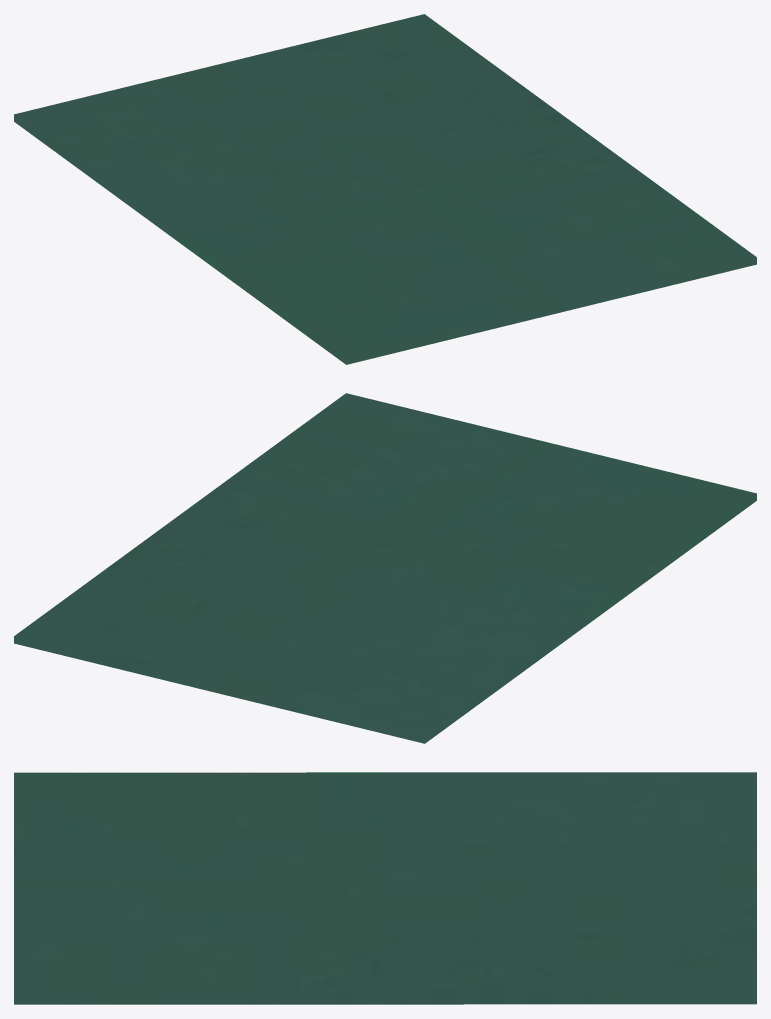
The picture shows the model from 3 angles, top to bottom: view 1: azimuth 30°, elevation 25°; view 2: azimuth 150°, elevation 25°; view 3: azimuth 270°, elevation 25°; orthographic projection. The views are drawn at different scales.
Parts seen in each view (by area): view 1: 30436272704370635623_0; view 2: 30436272704370635623_0; view 3: 30436272704370635623_0.
Part boxes in pixels (x1=…): 30436272704370635623_0: x1=14, y1=14, x2=756, y2=364; 30436272704370635623_0: x1=14, y1=393, x2=756, y2=743; 30436272704370635623_0: x1=14, y1=772, x2=756, y2=1004.
Size of the model in its own units: 27.32 by 0.4798 by 38.26.
Materials: 1 (1 with a texture image).
